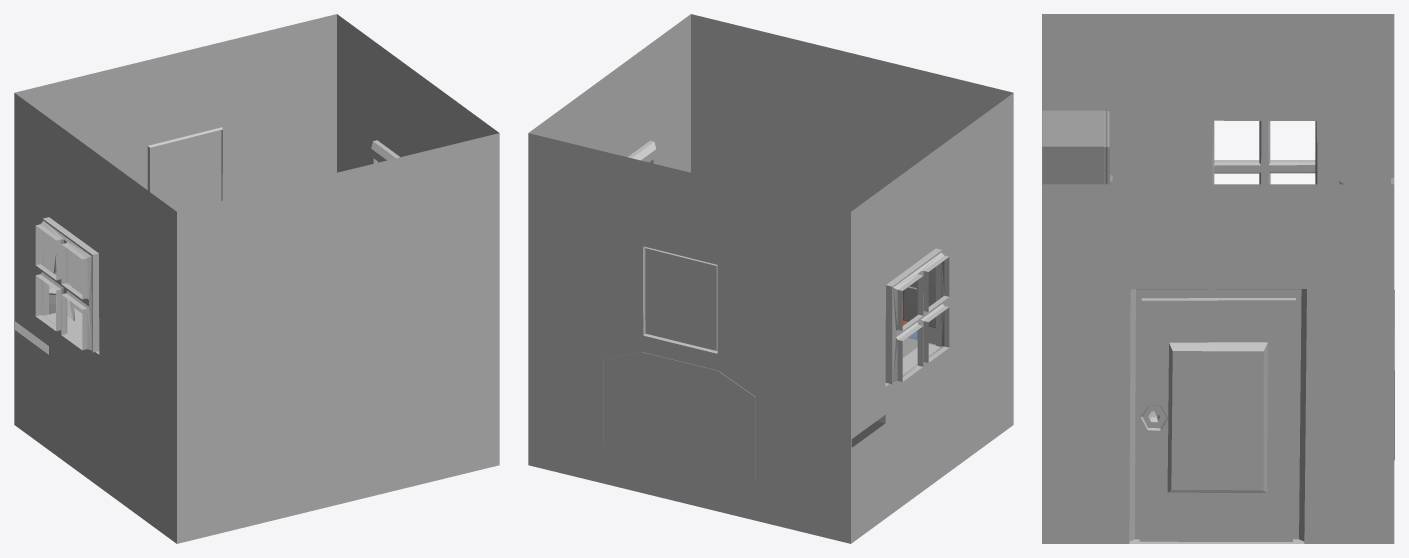
The model's file is Room.fbx.
3 views of the same model, side by side, from view 1: azimuth 30°, elevation 25°; view 2: azimuth 150°, elevation 25°; view 3: azimuth 270°, elevation 25° (orthographic). The views are drawn at different scales.
Visible parts, largest first — view 1: room; view 2: room, fridge; view 3: room, fridgetop.
Part boxes in pixels (x1,y1,x2,y2): room: (14,14,499,543); room: (528,14,1013,543); fridge: (903,267,935,328); room: (1042,14,1394,543); fridgetop: (1042,110,1112,184).
Bounding box in the file's own units: 18.35 × 17.17 × 15.27.
